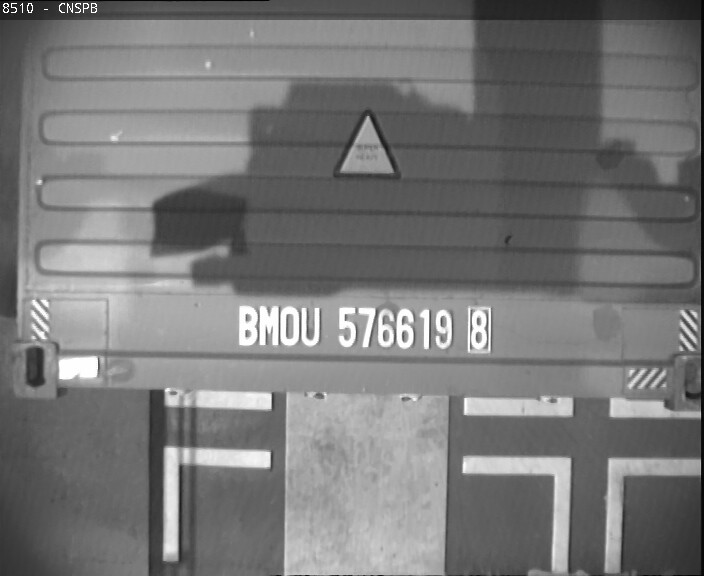groundmarker_1: (462, 457, 701, 572), (161, 387, 270, 561)
